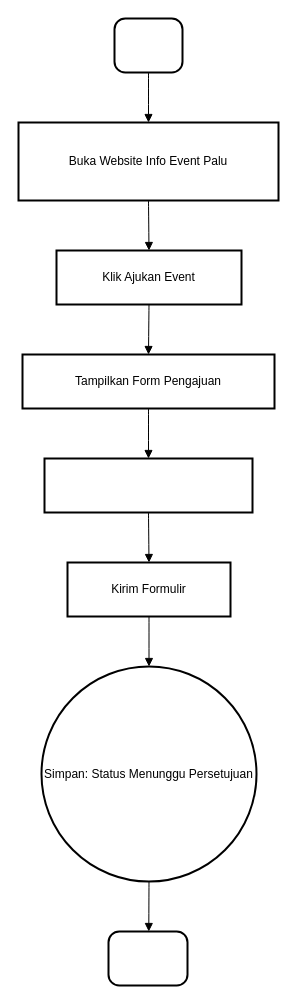
Image size: 296x1003. Some labels were removed from this diagram. Each missing label, with the centre of its shape:
Isi semua data event: (148,485)
Mulai: (148,45)
Selesai: (147,958)
